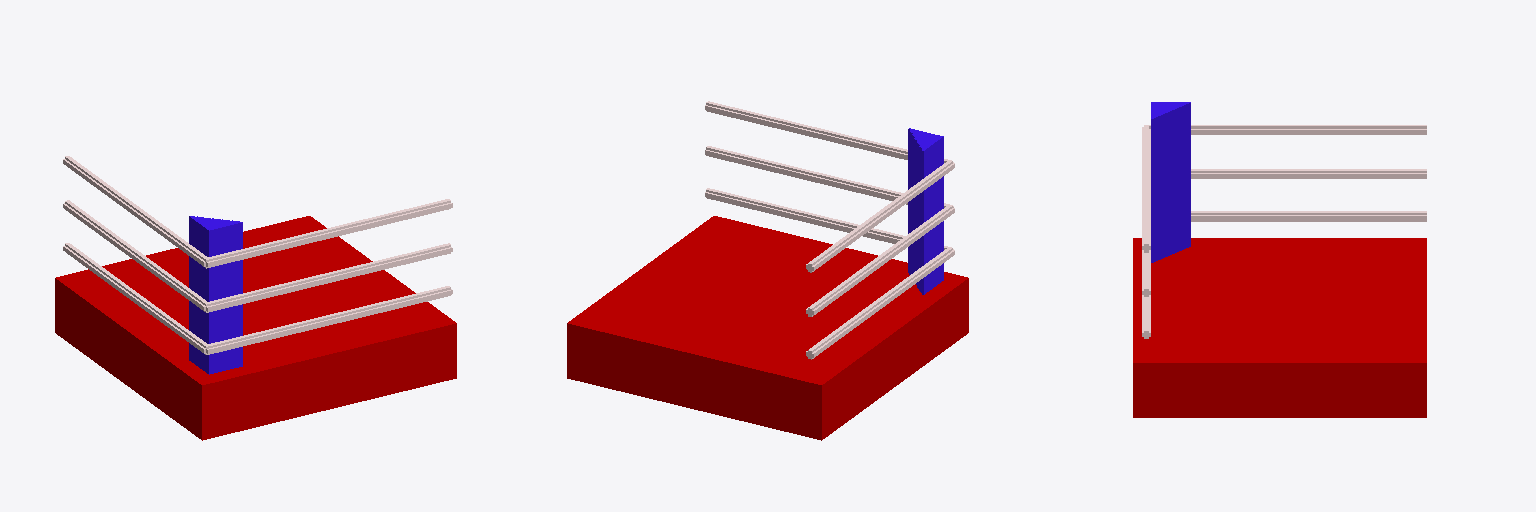
3 views of the same model, side by side, from view 1: azimuth 30°, elevation 25°; view 2: azimuth 150°, elevation 25°; view 3: azimuth 270°, elevation 25° (orthographic).
Parts seen in each view (by area): view 1: ringue; view 2: ringue; view 3: ringue.
Part boxes in pixels (bbox=[...]): ringue: bbox=[55, 156, 456, 440]; ringue: bbox=[567, 101, 968, 440]; ringue: bbox=[1133, 102, 1426, 417].
Bounding box in the file's own units: 126 × 94 × 126.
Materials: 1 (1 with a texture image).